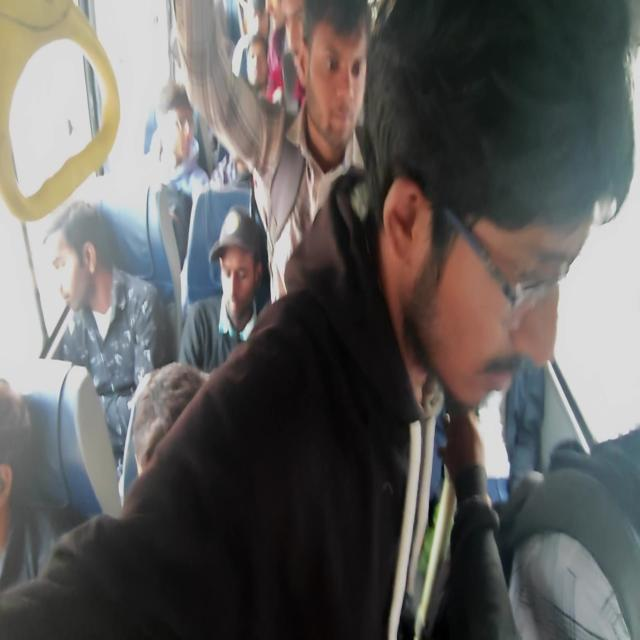person: (370, 18, 633, 380), (516, 457, 640, 640), (122, 395, 224, 544), (213, 212, 294, 390), (301, 0, 382, 154), (45, 208, 119, 329), (154, 102, 226, 206), (216, 102, 263, 192), (0, 410, 28, 530), (176, 36, 221, 104), (278, 0, 318, 76), (242, 3, 271, 42), (246, 47, 267, 98), (266, 2, 284, 40)
